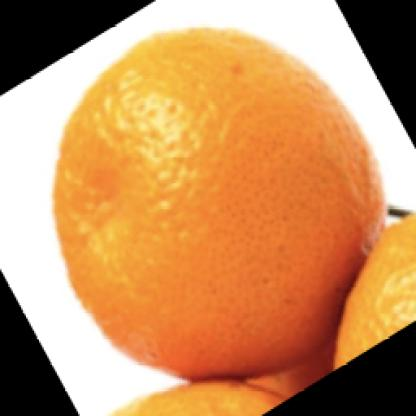fresh: (56, 28, 387, 380)
